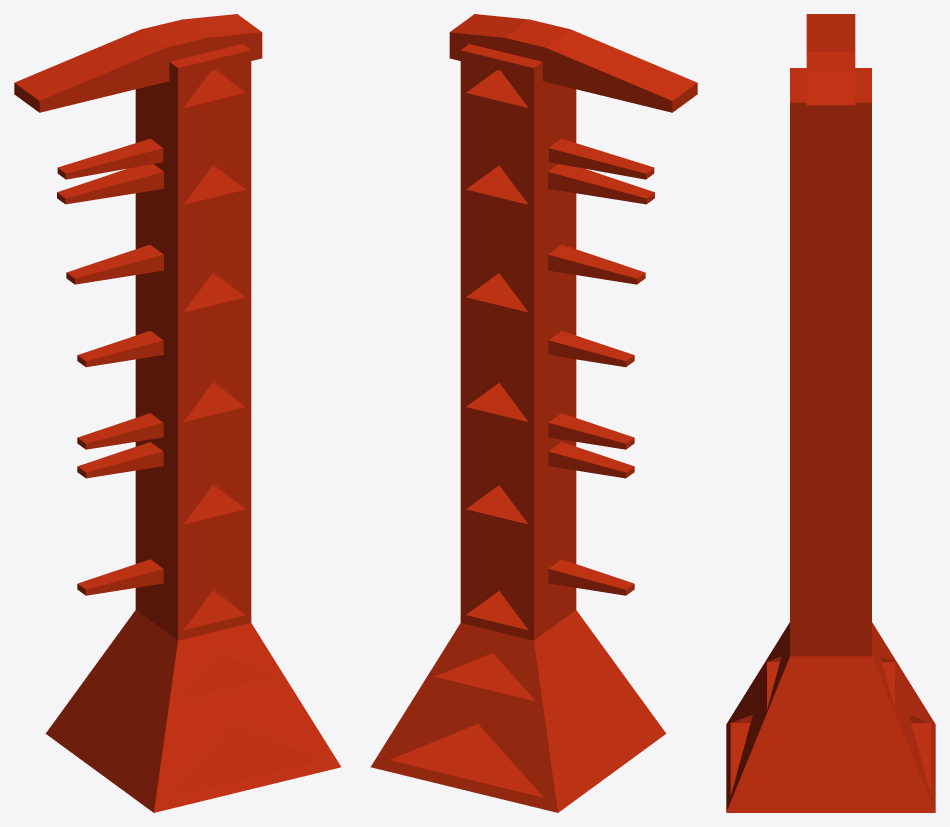
Rendered from Tower.fbx.
The picture shows the model from 3 angles, left to right: view 1: azimuth 30°, elevation 25°; view 2: azimuth 150°, elevation 25°; view 3: azimuth 270°, elevation 25°; orthographic projection. The views are drawn at different scales.
Parts seen in each view (by area): view 1: Tower 1; view 2: Tower 1; view 3: Tower 1.
Boxes of the visible parts, left/top/right/bottom form: Tower 1: left=14, top=14, right=340, bottom=812; Tower 1: left=371, top=14, right=697, bottom=812; Tower 1: left=726, top=14, right=935, bottom=812.
Size of the model in its own units: 626 by 1659 by 451.
